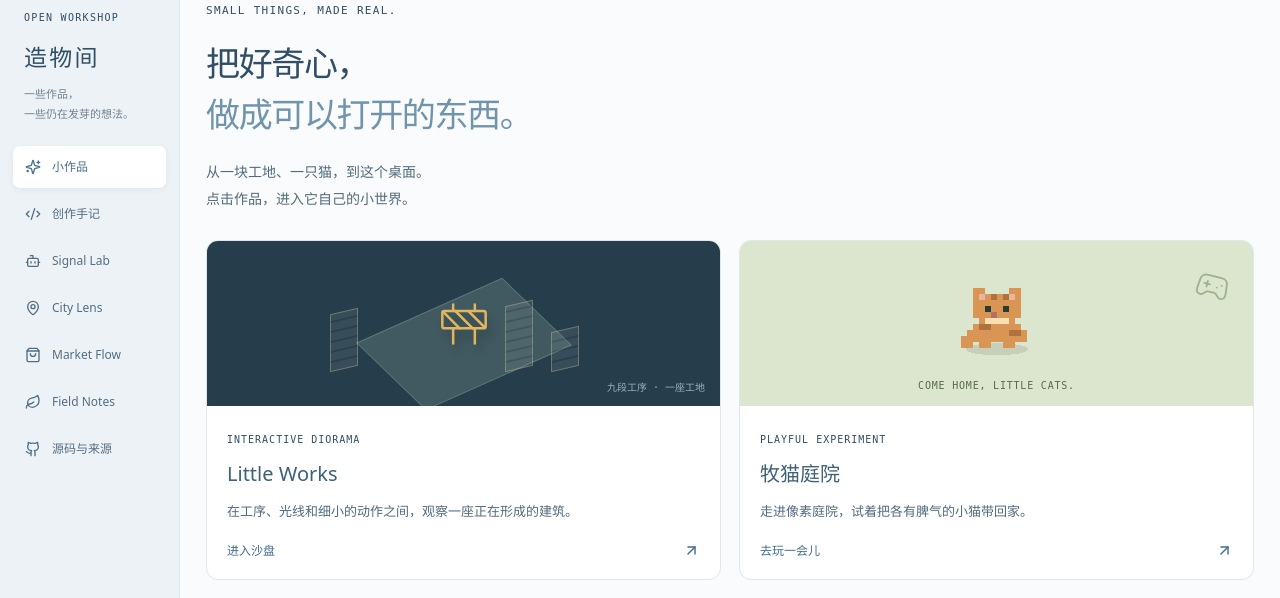
Test: perspective keyboard tabs › uses unique panel relationships if the workshop is rendered more than once
What coordinates should you click on to do the following:
click the button "Signal Lab"
I would click on:
 (90, 261)
Its box is [13,240,166,282].
(page scrolled)
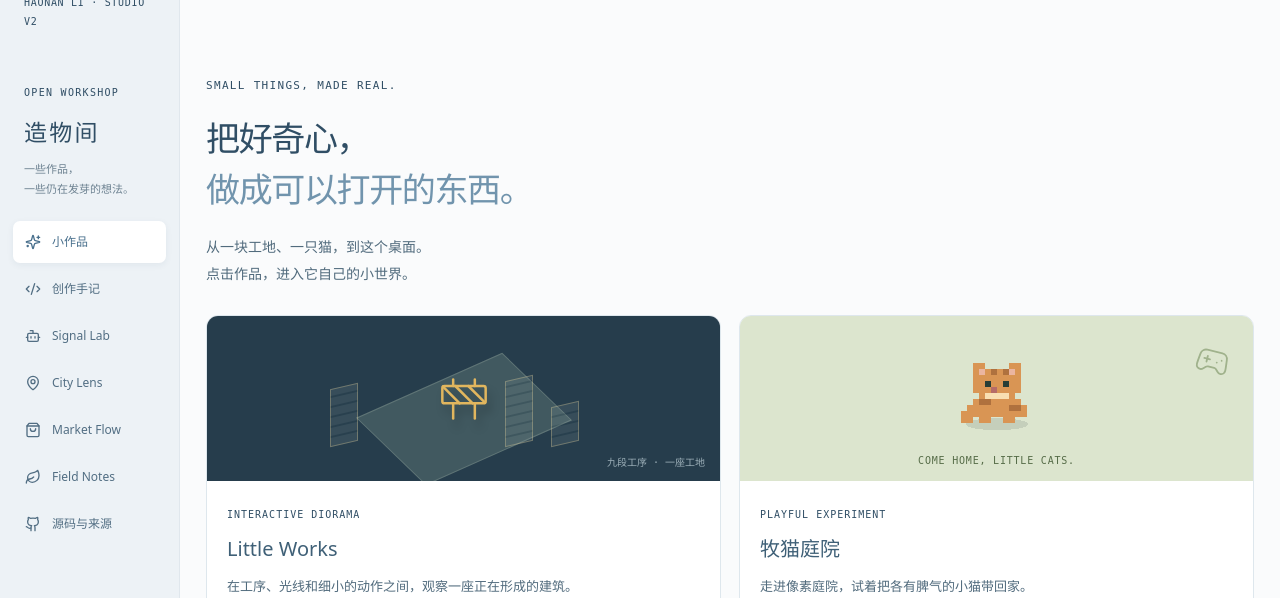
What coordinates should you click on to do the following:
click the button "Signal Lab"
I would click on:
 (90, 336)
Its box is [13,315,166,357].
(page scrolled)
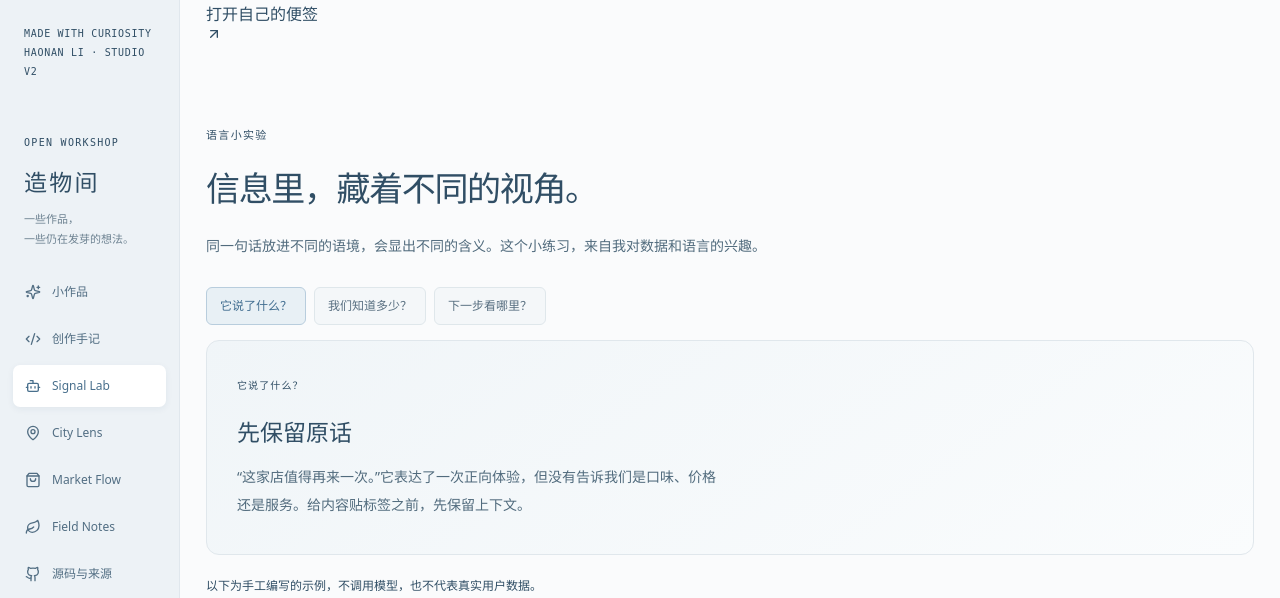
Expected: the number of panels is 2
